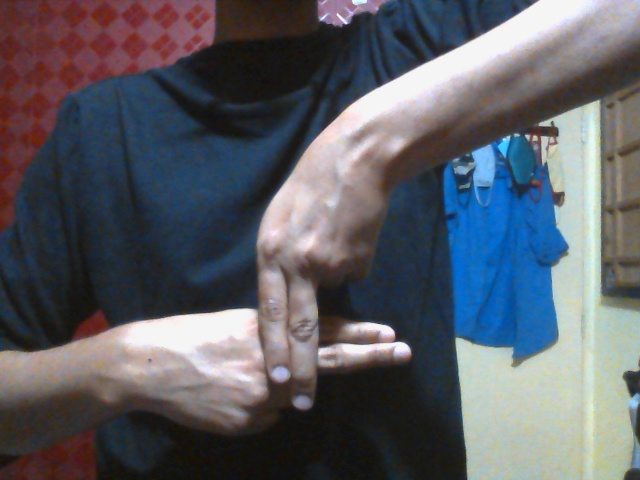F: (138, 151, 412, 437)
